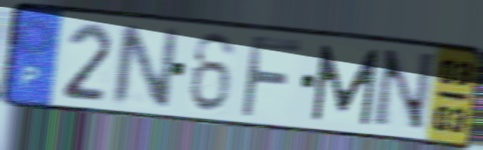2: (59, 20, 113, 105)
6: (187, 30, 238, 116)
F: (237, 32, 305, 121)
M: (309, 42, 382, 128)
N: (109, 22, 183, 111), (366, 47, 438, 135)
